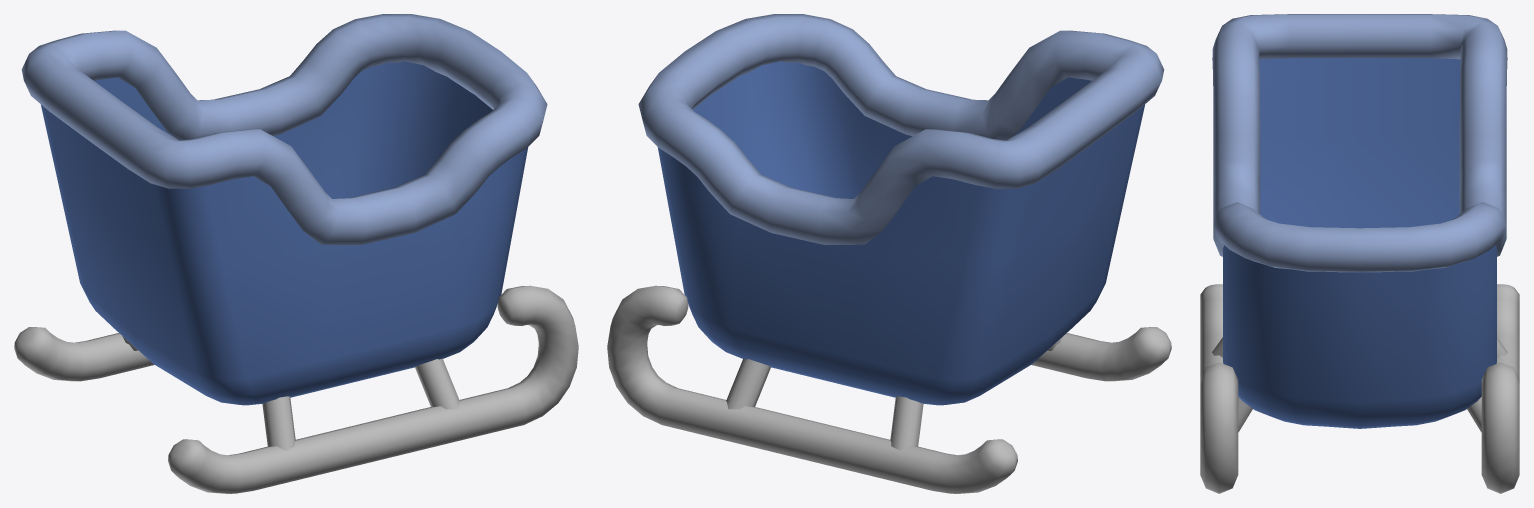
File: sled.fbx
3 views of the same model, side by side, from view 1: azimuth 30°, elevation 25°; view 2: azimuth 150°, elevation 25°; view 3: azimuth 270°, elevation 25° (orthographic). The views are drawn at different scales.
Parts seen in each view (by area): view 1: sled-base, sled-corner, sled-metal; view 2: sled-base, sled-corner, sled-metal; view 3: sled-base, sled-corner, sled-metal.
Boxes of the visible parts, left/top/right/bottom form: sled-base: left=41, top=61, right=528, bottom=405; sled-corner: left=21, top=14, right=547, bottom=244; sled-metal: left=14, top=285, right=578, bottom=493; sled-base: left=657, top=61, right=1144, bottom=405; sled-corner: left=638, top=14, right=1164, bottom=244; sled-metal: left=607, top=285, right=1171, bottom=493; sled-base: left=1223, top=58, right=1496, bottom=428; sled-corner: left=1212, top=14, right=1507, bottom=272; sled-metal: left=1200, top=284, right=1519, bottom=493.
Size of the model in its own units: 1.04 by 0.8237 by 0.7346.
